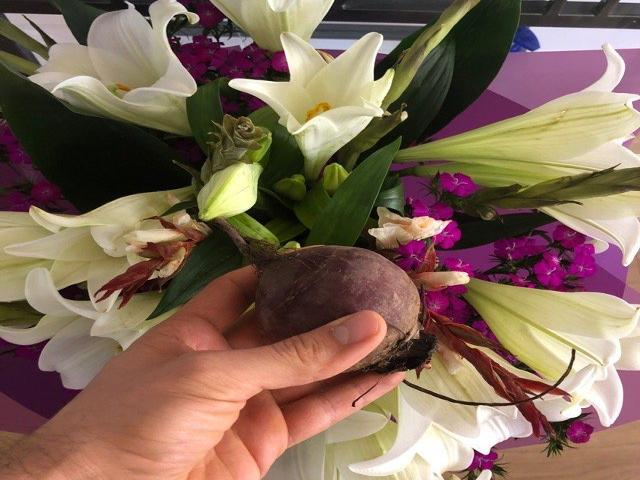beet: (209, 215, 436, 374)
